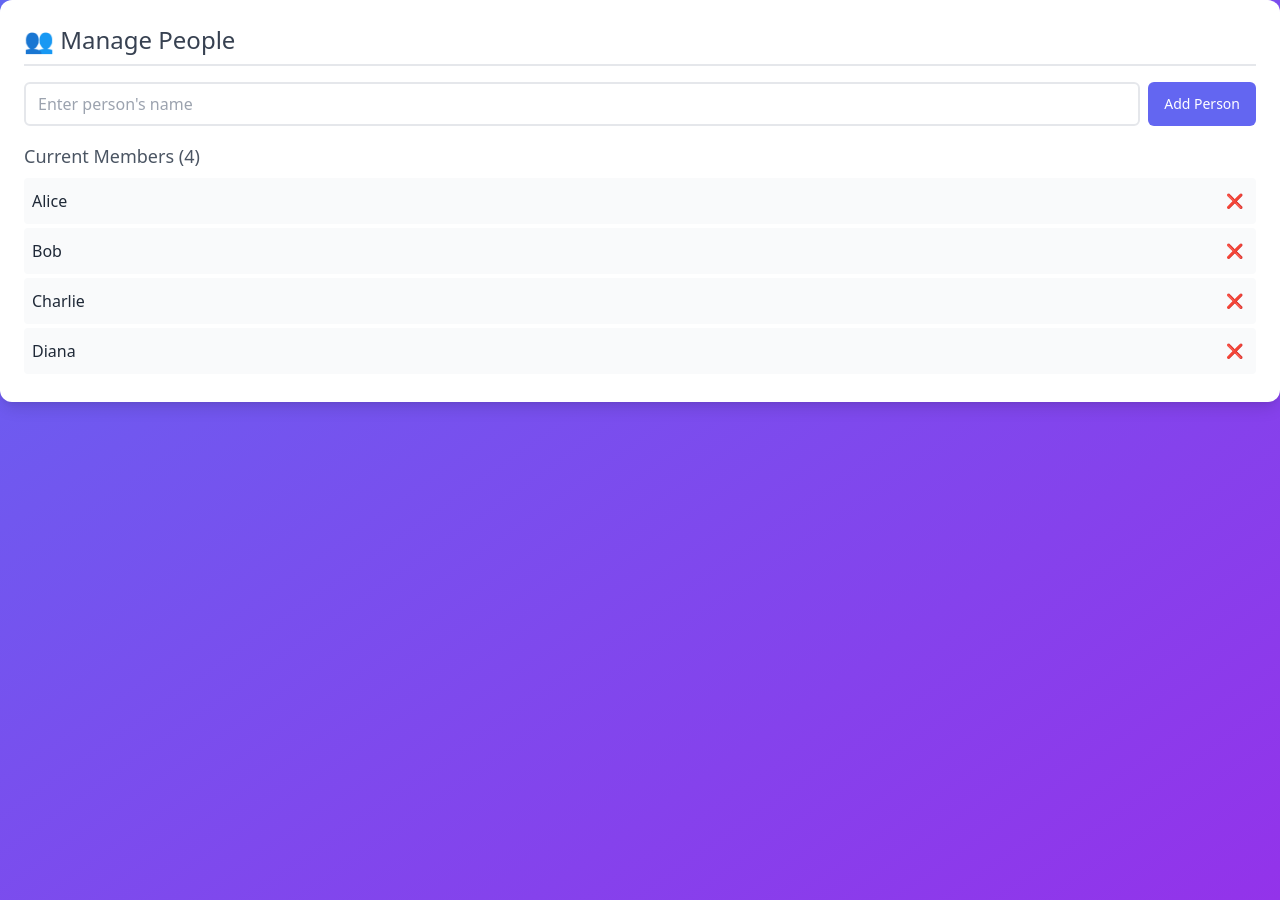
PeopleManager › removes a person
The width and height of the screenshot is (1280, 900).
Type "Eve" into the field with placeholder "Enter person's name".
click(582, 104); type("Eve")  # box [24,82,1140,126]
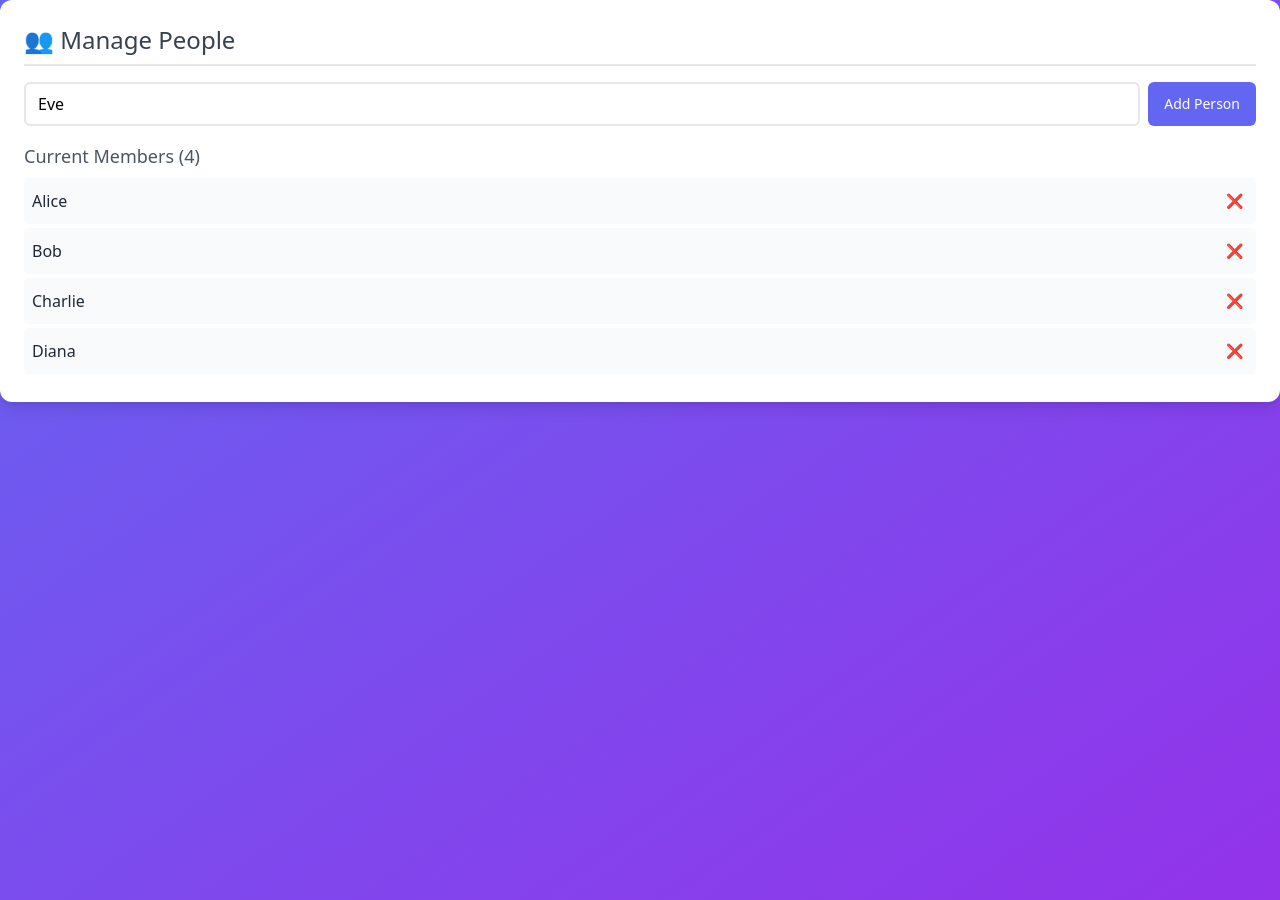
Click the button "Add Person".
click(1202, 104)  # box [1148,82,1256,126]
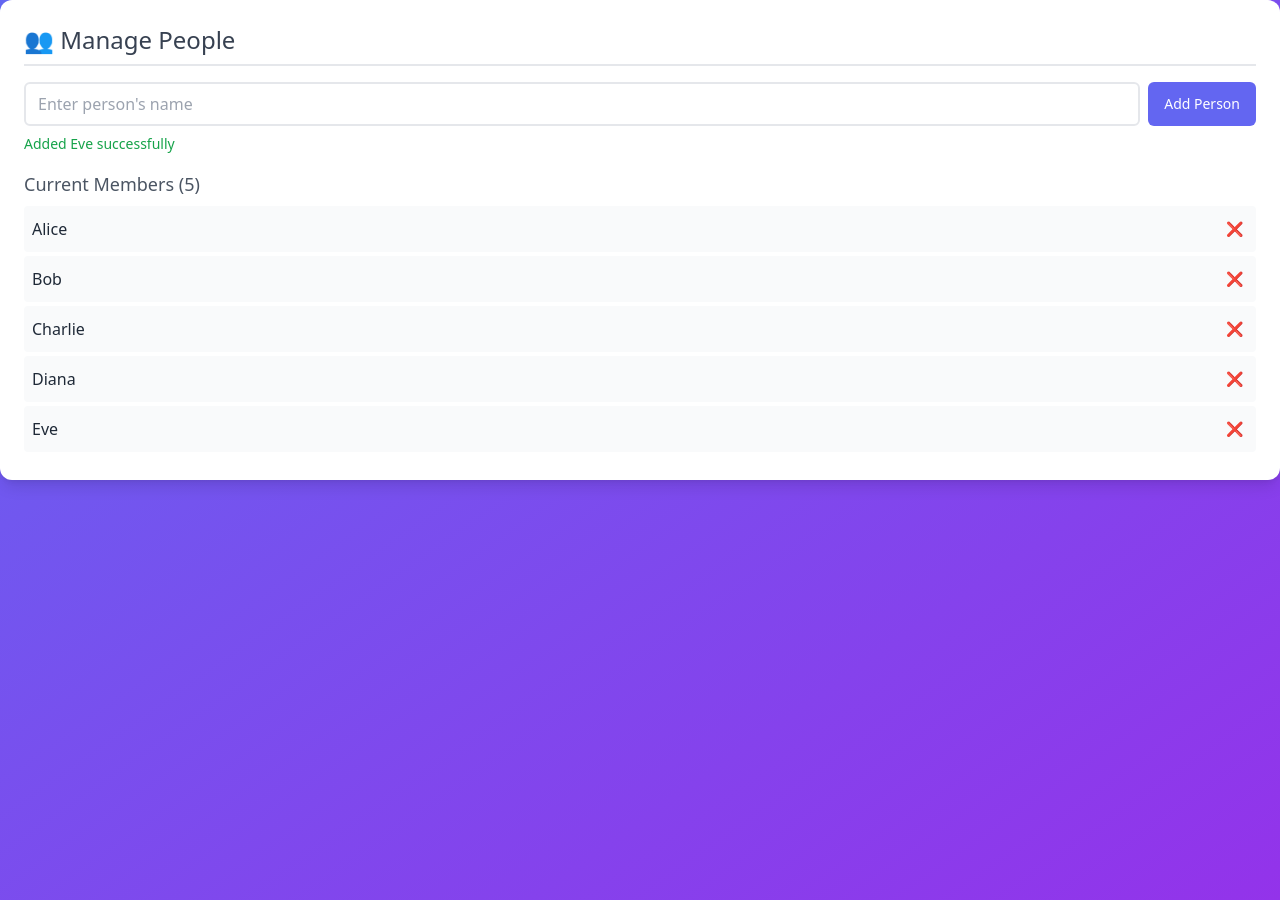
Click the button named "Remove Eve".
click(1234, 429)  # box [1221,414,1248,444]
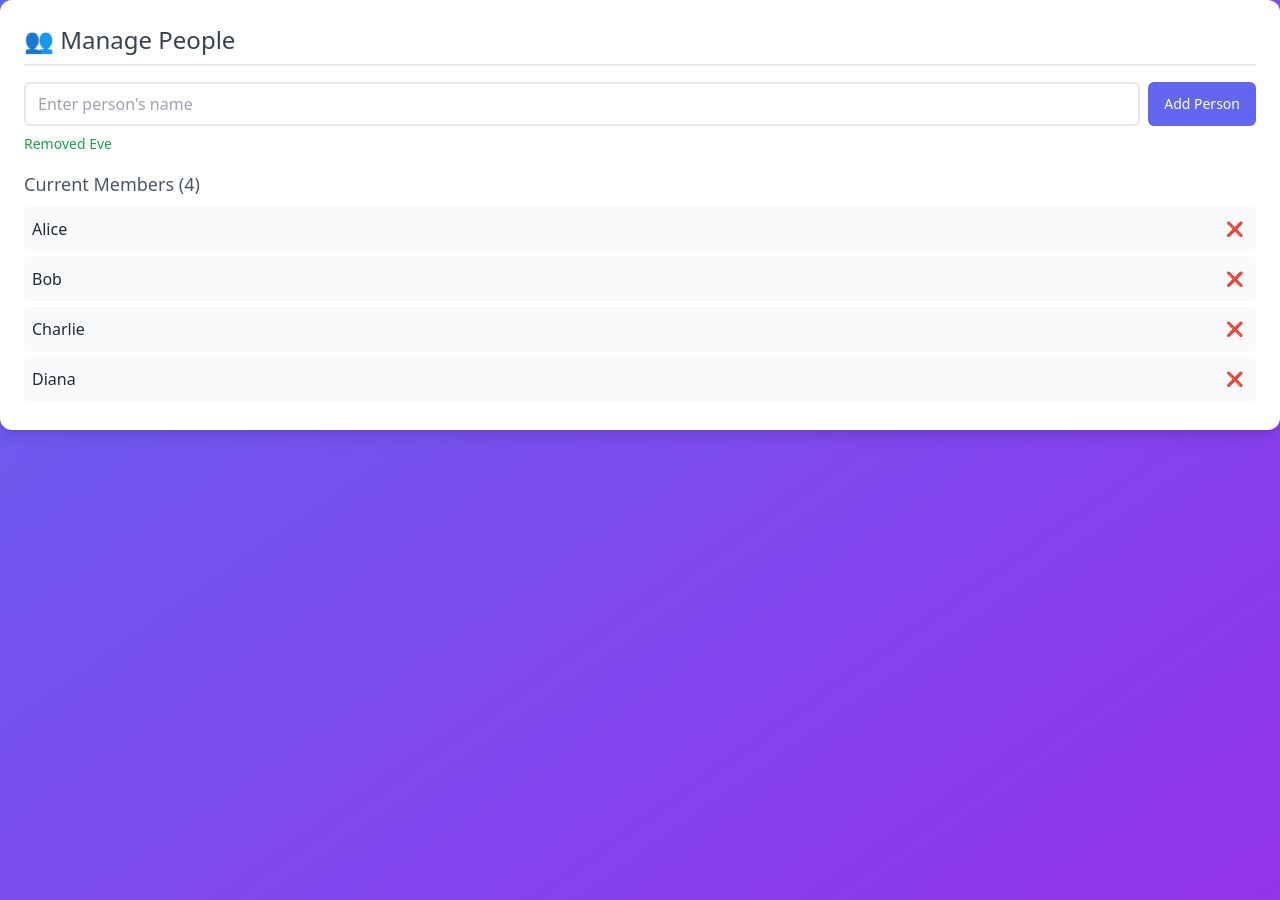
Check: the text "Removed Eve" is shown, box [24,134,112,153]
